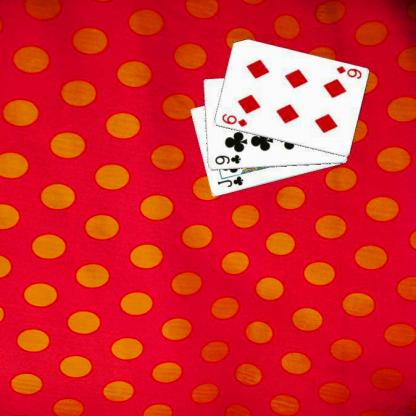6D: (219, 111, 248, 128), (333, 64, 363, 80)
9C: (212, 152, 242, 166)
JC: (215, 173, 244, 189)
